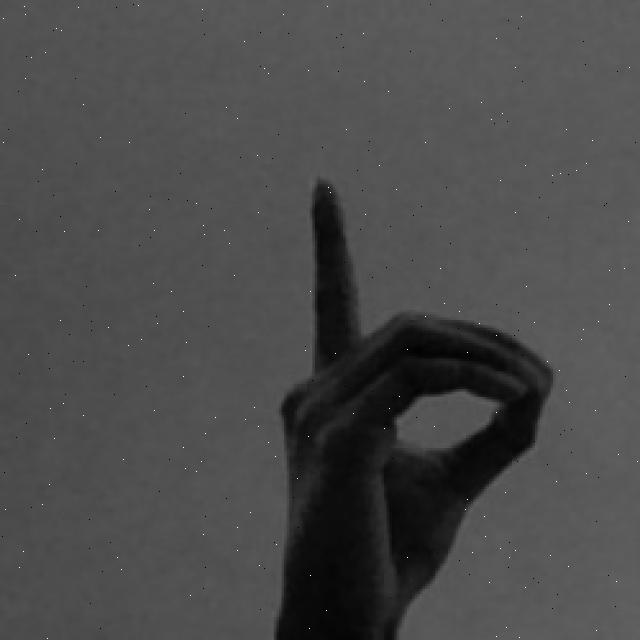D: (272, 176, 555, 640)
